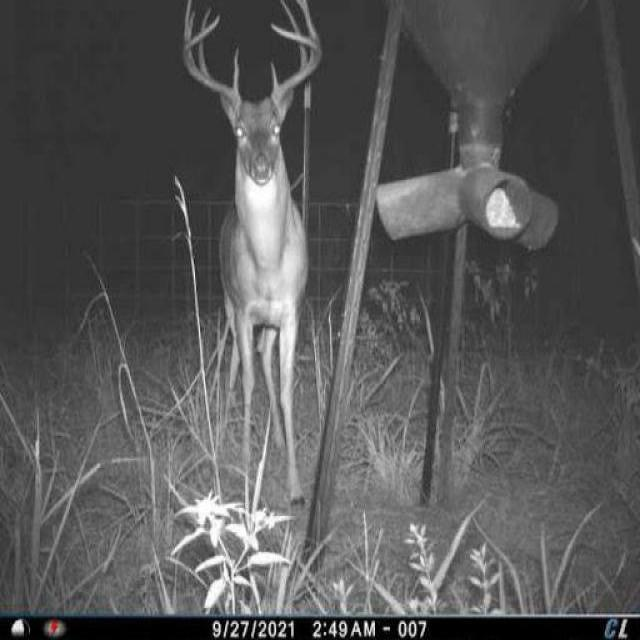deer: (174, 0, 332, 507)
